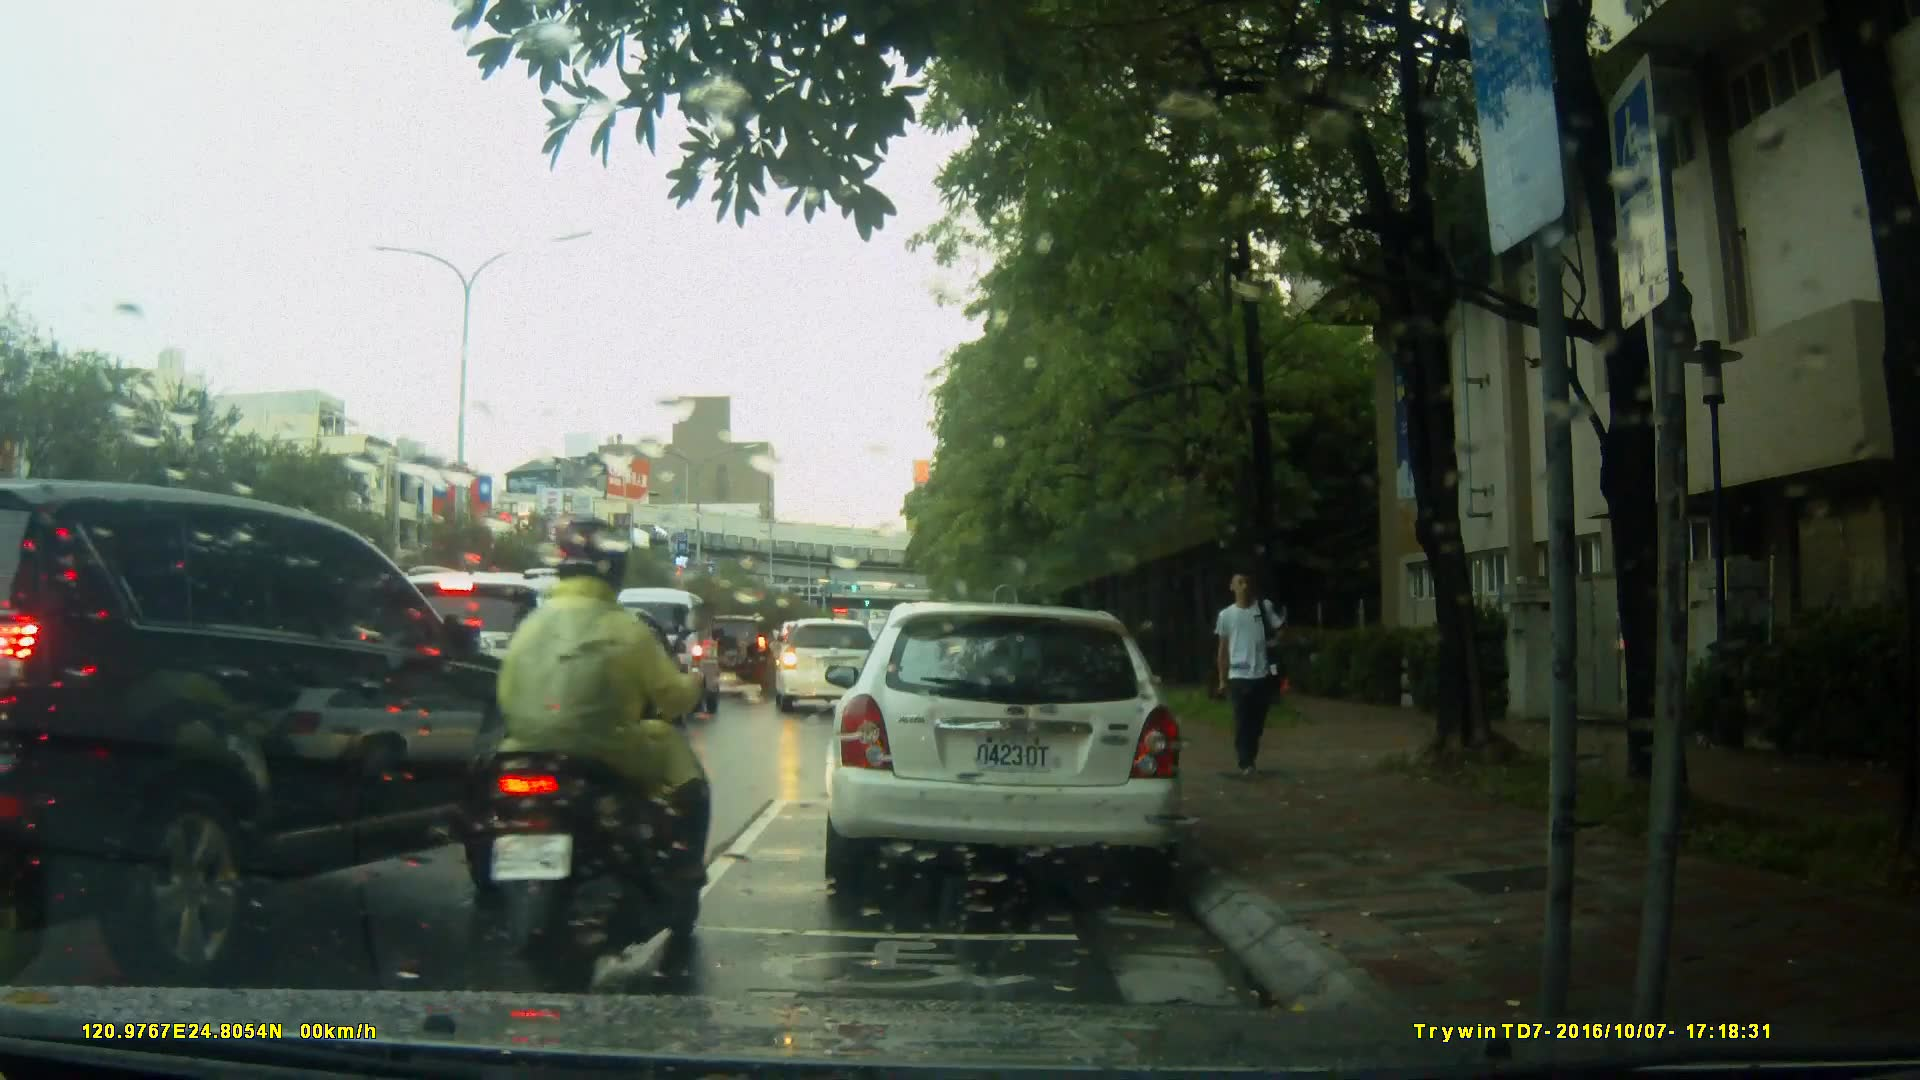pedestrian: (1208, 563, 1295, 795)
rider: (461, 518, 702, 975)
vehicle: (1, 473, 541, 986), (820, 602, 1188, 898), (349, 564, 662, 788), (603, 586, 725, 720), (771, 618, 885, 713), (688, 612, 778, 698)
